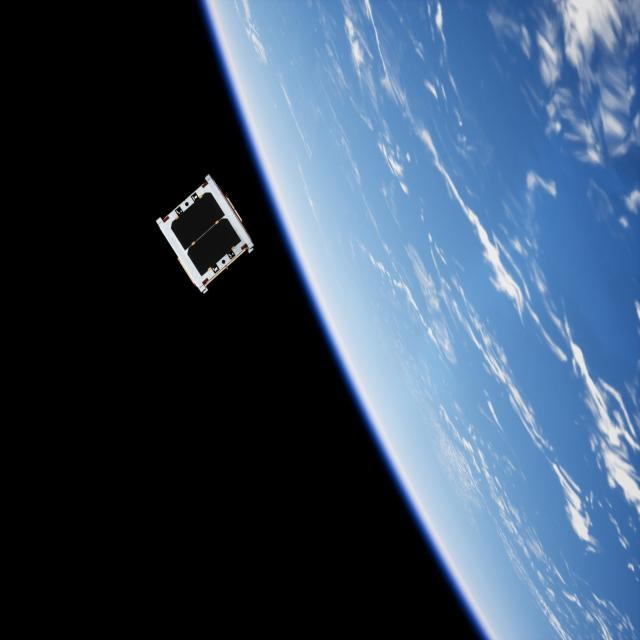medium_debris: (157, 178, 263, 299)
